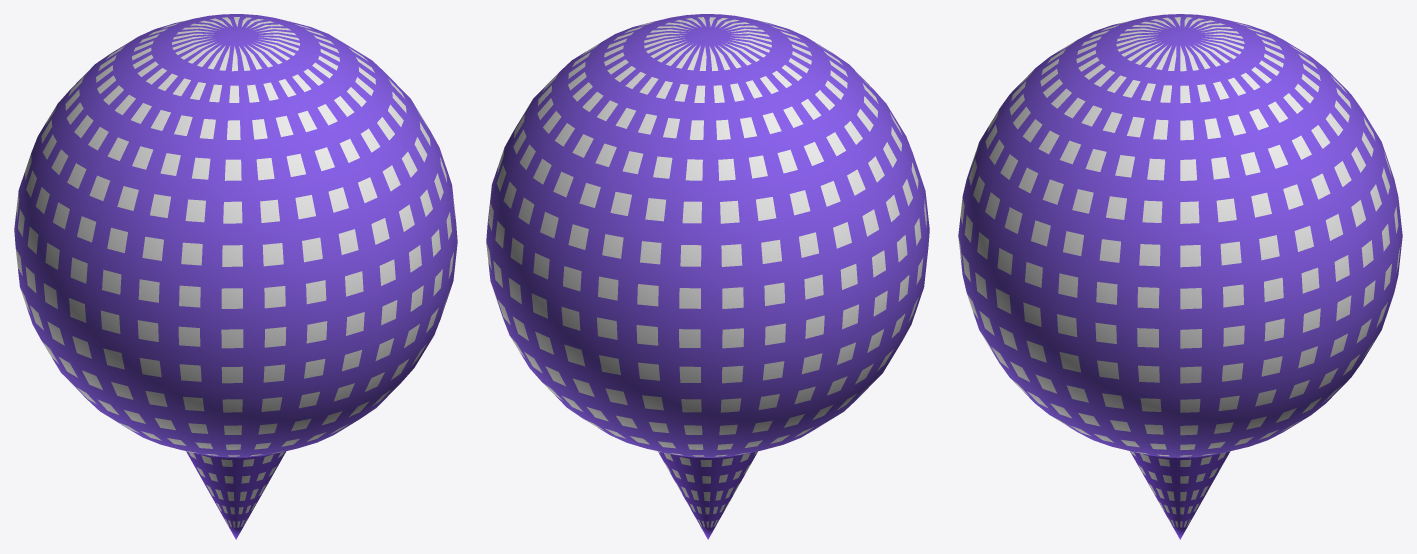
File: SphereAndPointer.fbx
The picture shows the model from 3 angles, left to right: view 1: azimuth 30°, elevation 25°; view 2: azimuth 150°, elevation 25°; view 3: azimuth 270°, elevation 25°; orthographic projection.
Visible parts, largest first — view 1: Sphere; view 2: Sphere; view 3: Sphere.
Part boxes in pixels (x1,y1,x2,y2): Sphere: (14,14,457,539); Sphere: (486,14,929,539); Sphere: (958,14,1402,539).
Size of the model in its own units: 200 by 251 by 200.
